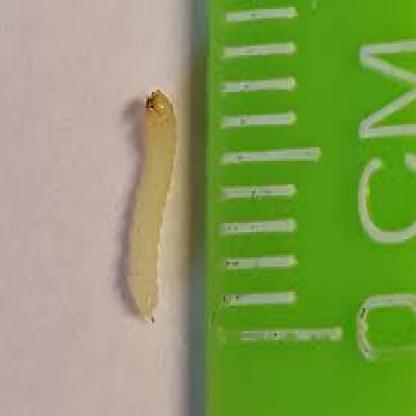sawfly: (123, 84, 180, 326)
